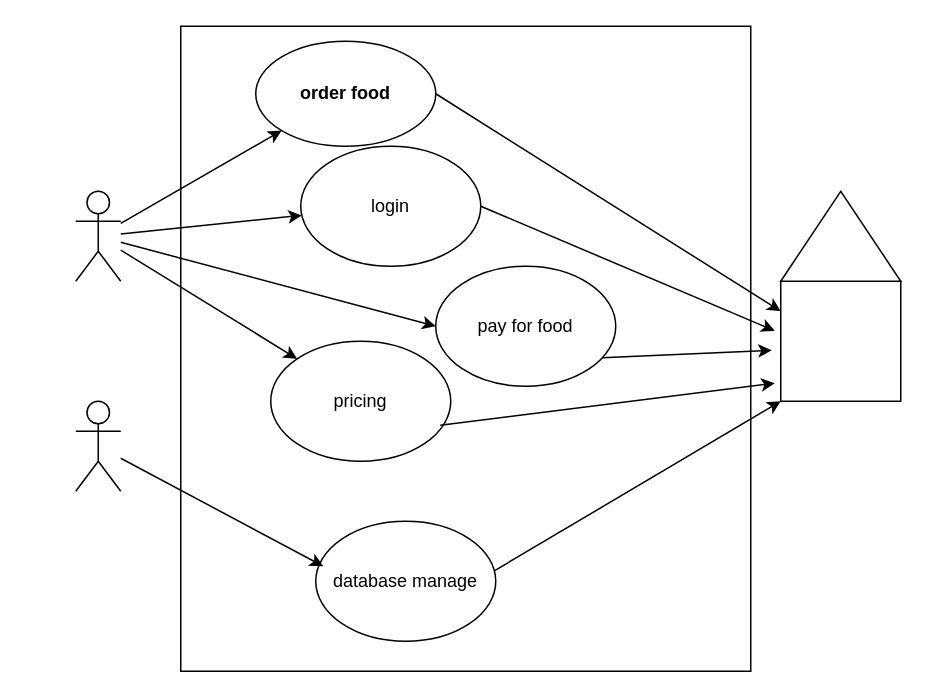
The diagram is 927 pixels wide and 698 high, and some of its shapes have lost their labels. Here are the shapes that lost their labels. From the top down, the centre of each, then its label:
At [97,235]: "customer".
At [97,445]: "system maintainer".
